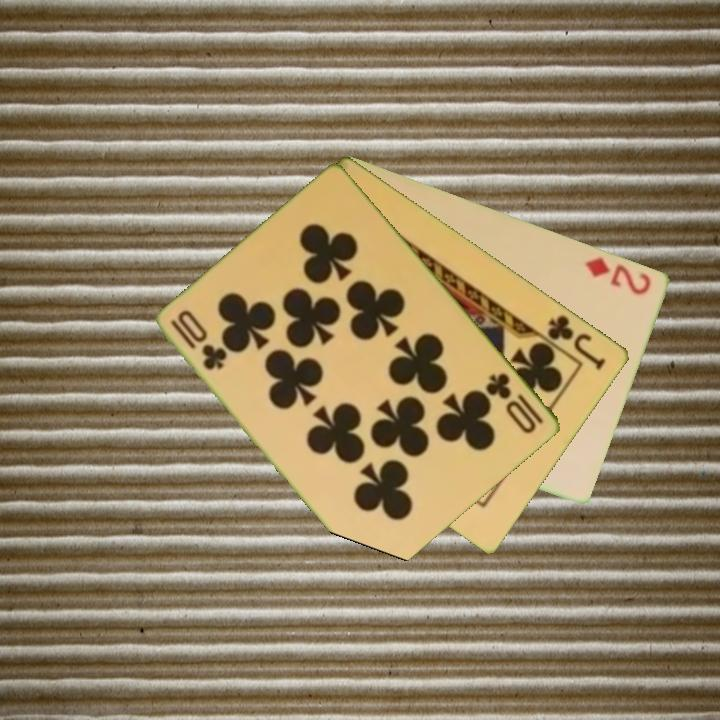10c: (482, 369, 547, 437), (167, 306, 230, 373)
2d: (581, 253, 655, 298)
Jc: (544, 311, 610, 373)
